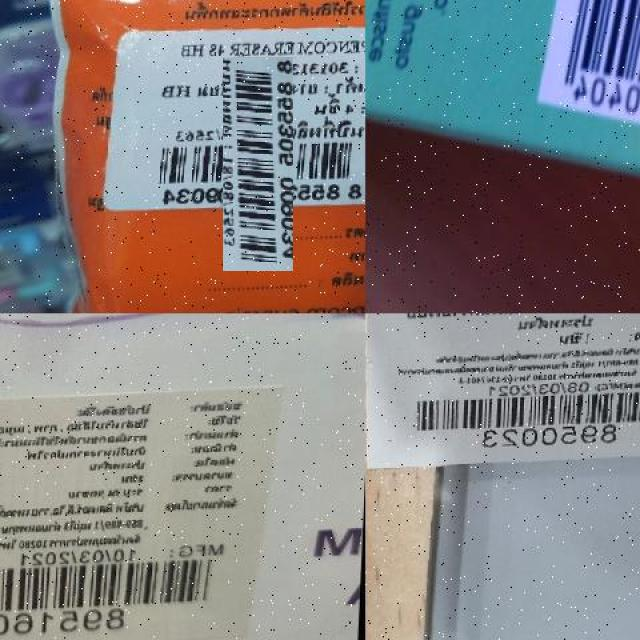Barcode: (0, 547, 236, 636), (187, 93, 329, 236), (536, 0, 640, 172), (407, 374, 640, 448)
